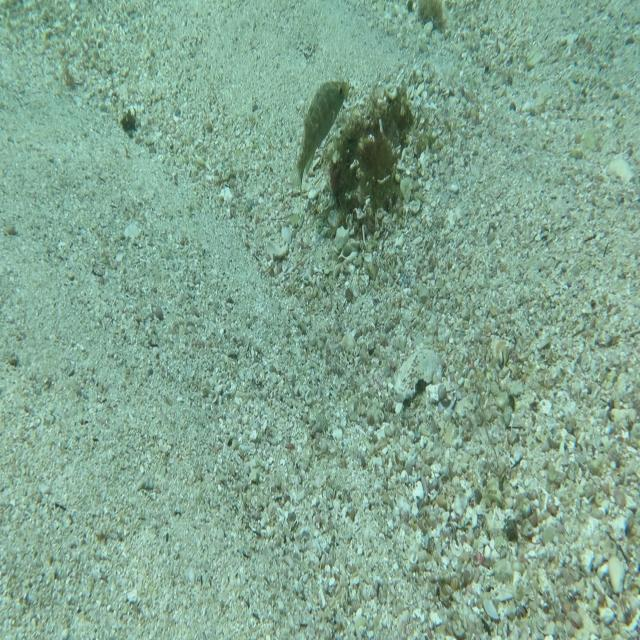AM: (290, 78, 350, 198)
core_nest: (376, 93, 406, 130)
nest: (323, 78, 422, 222)
nest_material: (348, 84, 356, 93)
vegetation: (413, 0, 448, 37), (120, 111, 139, 137)
